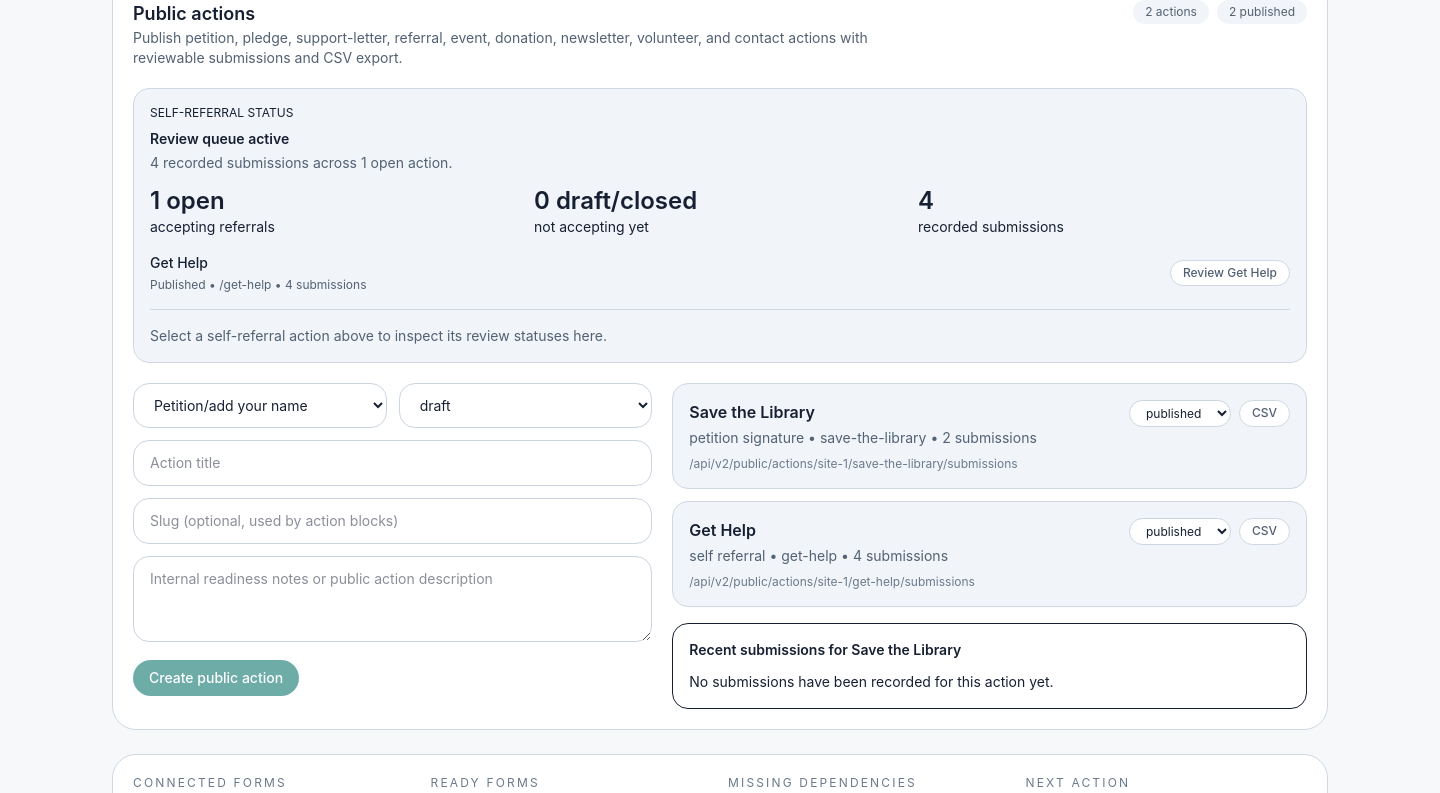
Test: WebsiteFormsPage › creates public action rows from the forms workspace
(page scrolled)
Check: the text "Save the Library" is shown, box [689,402,815,422]
Select "Donation pledge" in the dropdown named "Public action type" at x=260, y=406, box [133,383,387,428]
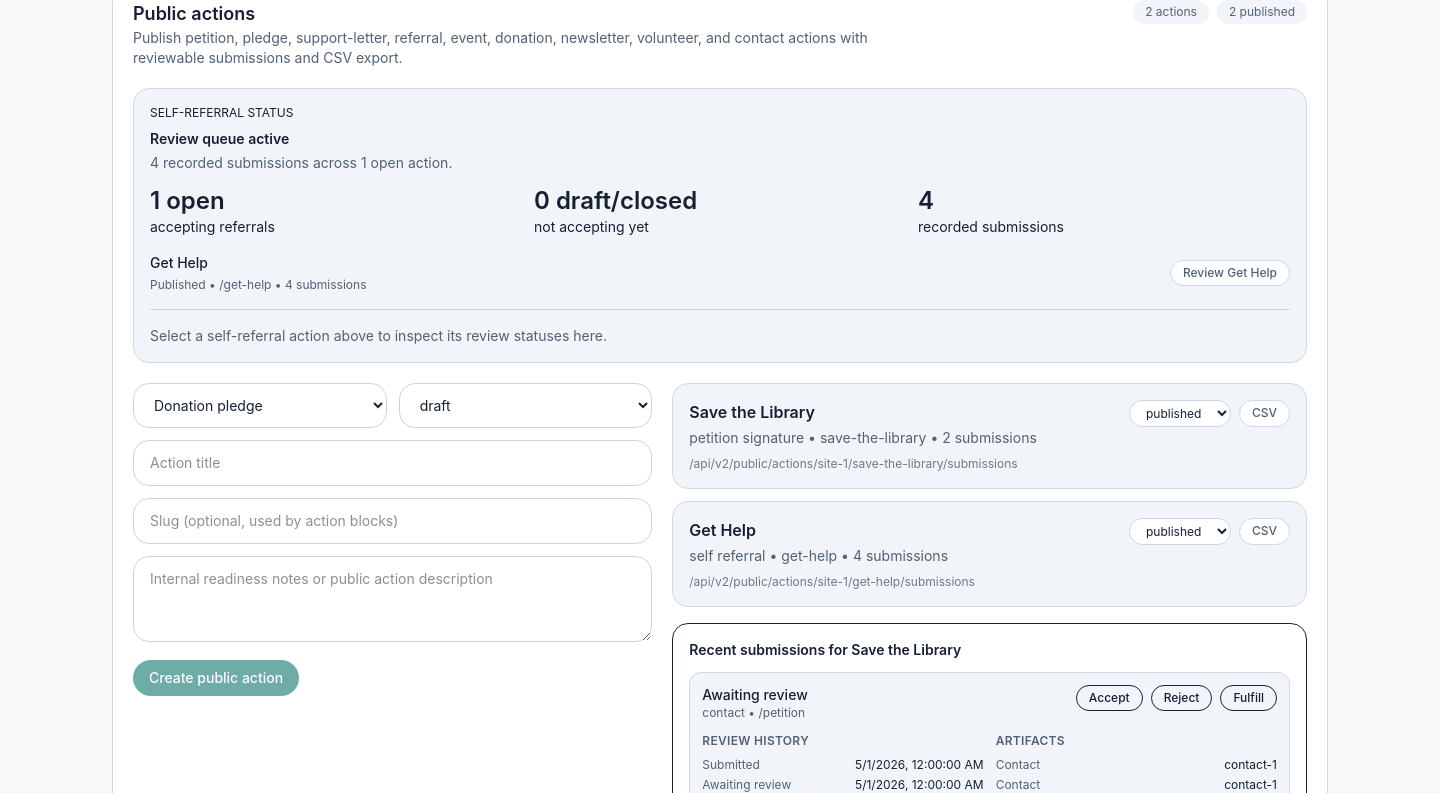
Type "Spring Pledge" into the field named "Public action title" at x=393, y=463, box [133,440,652,486]
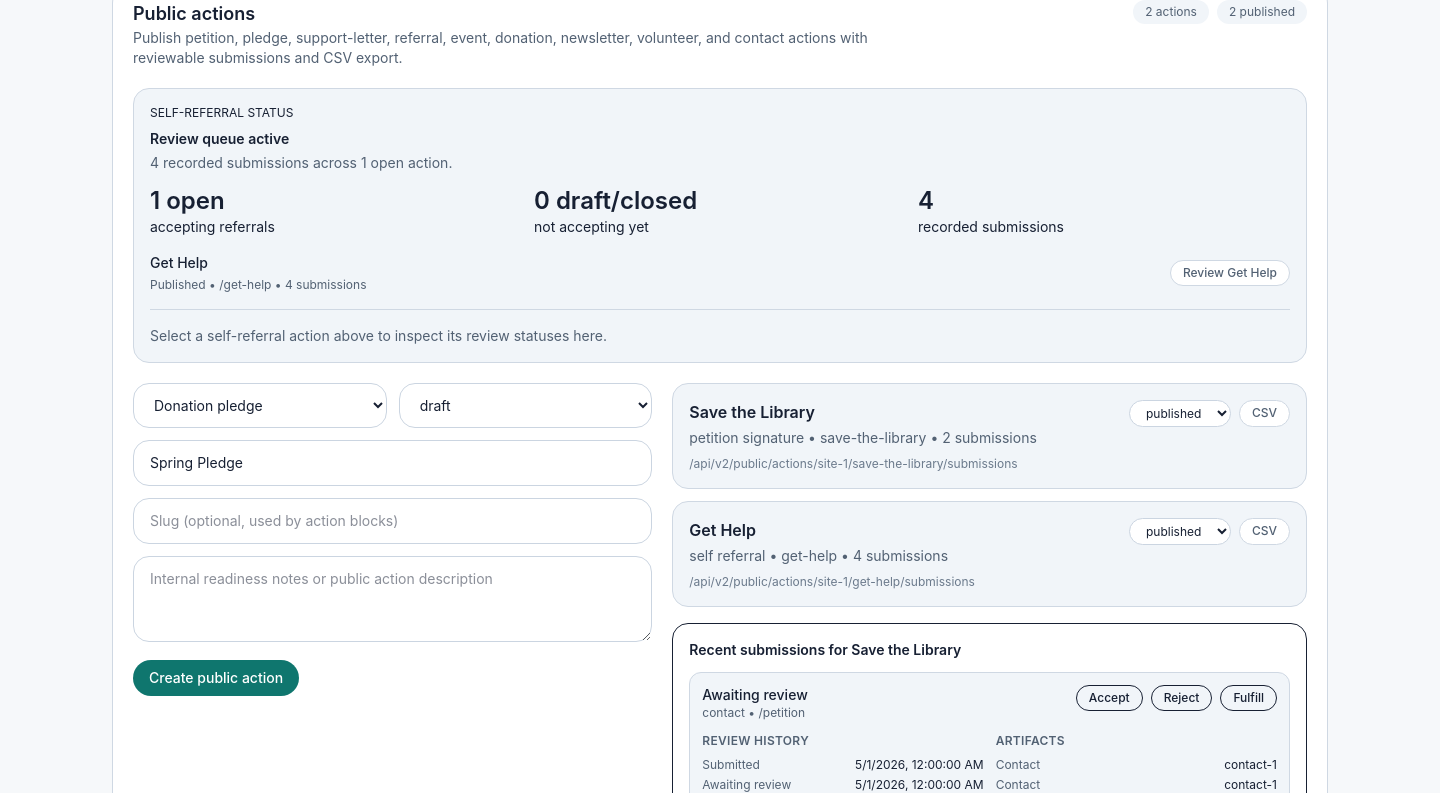
Type "spring-pledge" into the field named "Public action slug" at x=393, y=521, box [133,498,652,544]
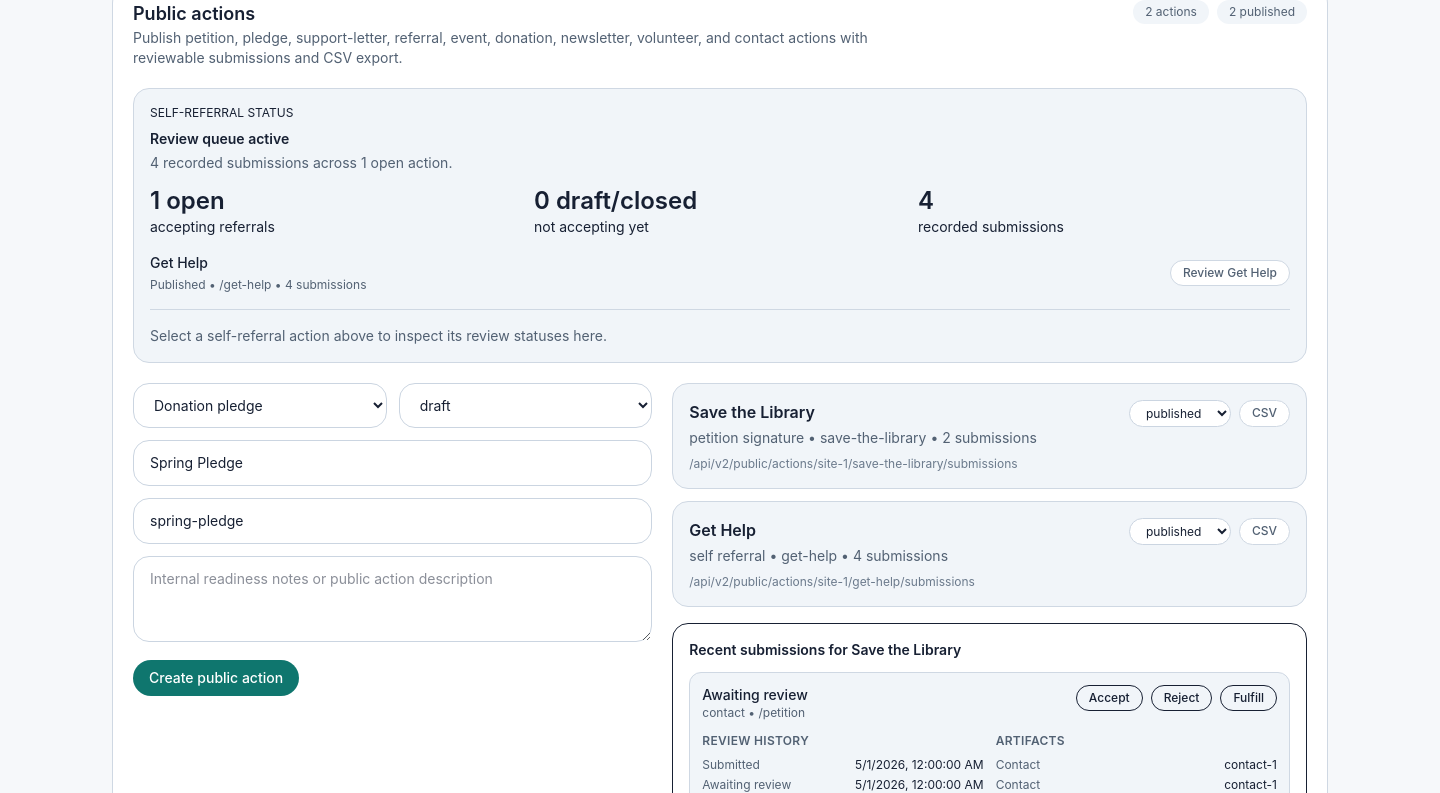
Click the button "Create public action" at x=216, y=678, box [133,660,299,696]
(page scrolled)
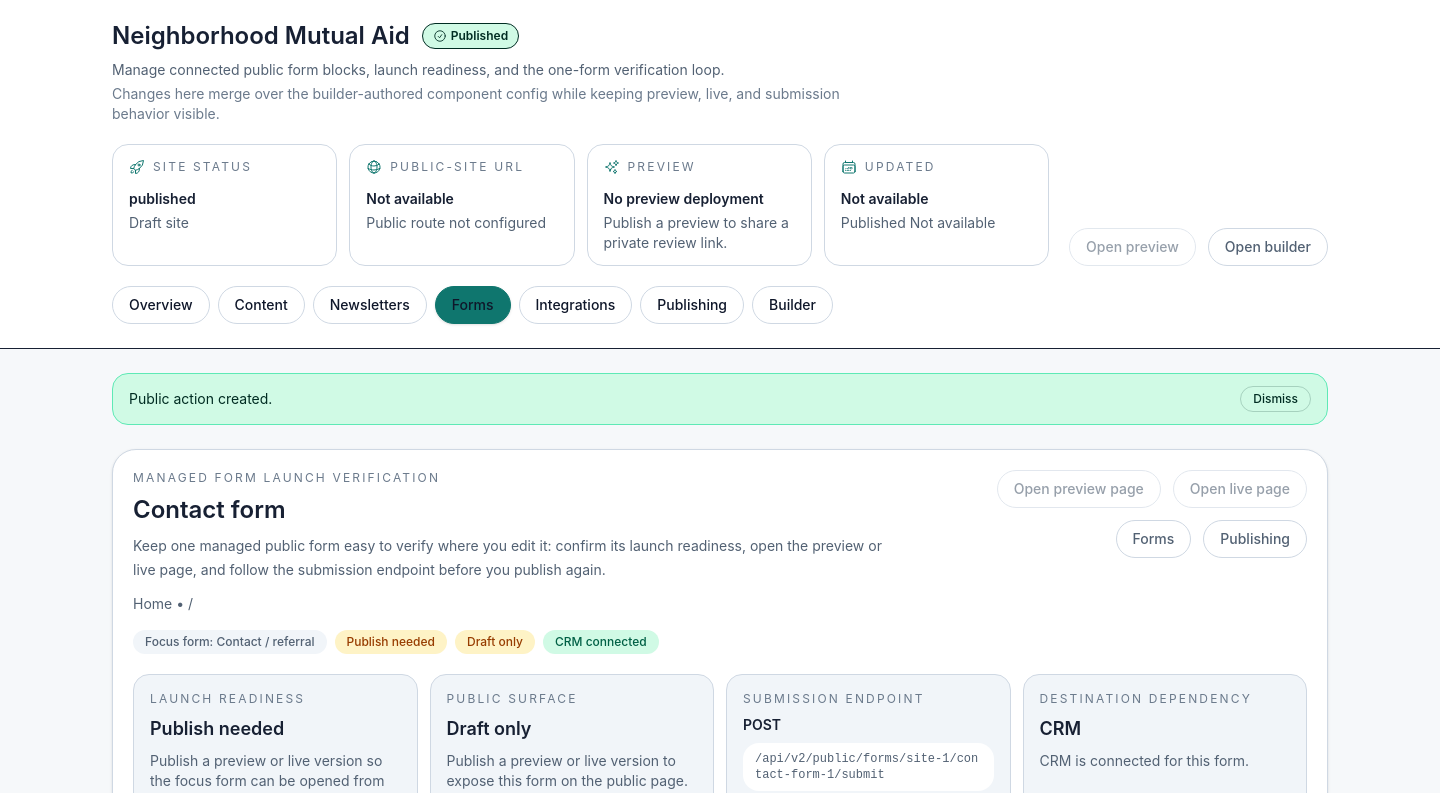
Check: the text "Public action created." is shown, box [129,389,272,409]
